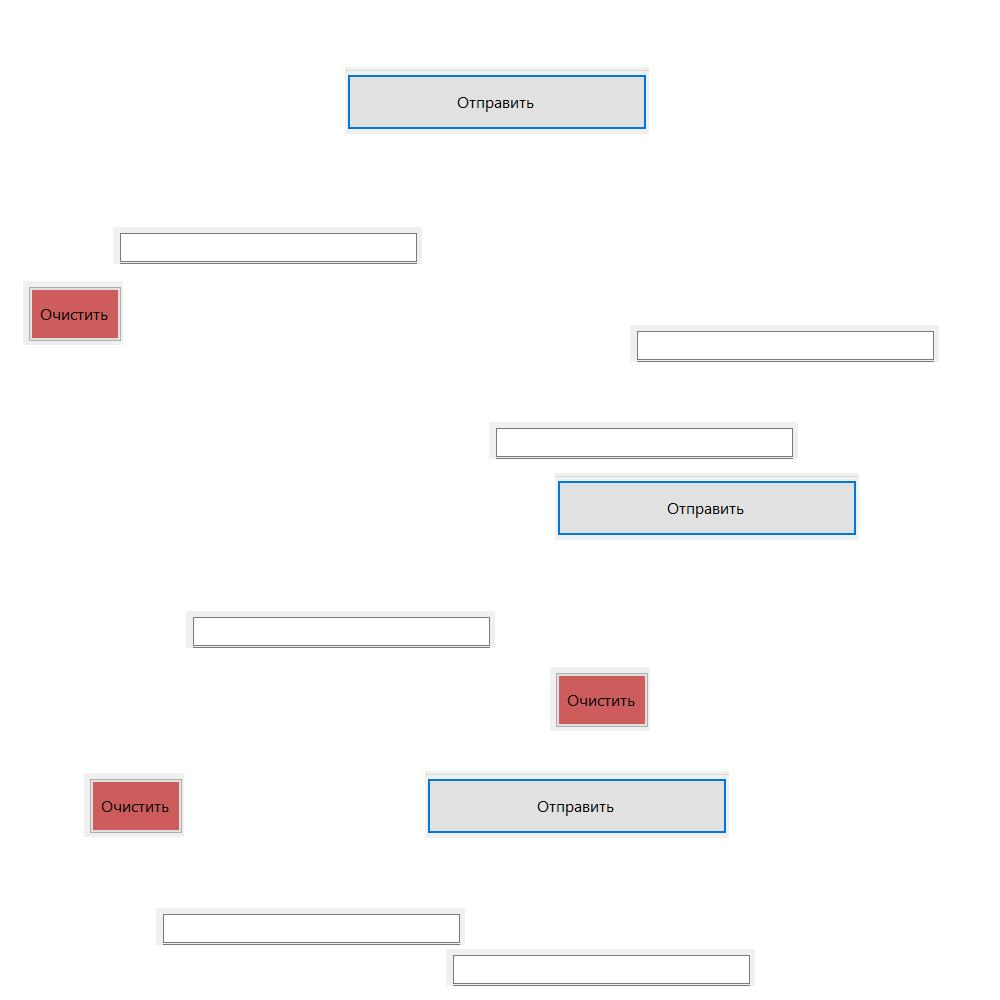Button: (555, 473, 859, 540), (425, 771, 729, 838), (345, 67, 649, 134), (550, 667, 650, 731), (23, 281, 123, 345), (84, 773, 184, 837)
EditText-: (113, 227, 422, 264), (156, 908, 465, 945), (630, 325, 939, 362), (186, 611, 495, 648), (446, 949, 755, 986), (489, 422, 798, 459)
